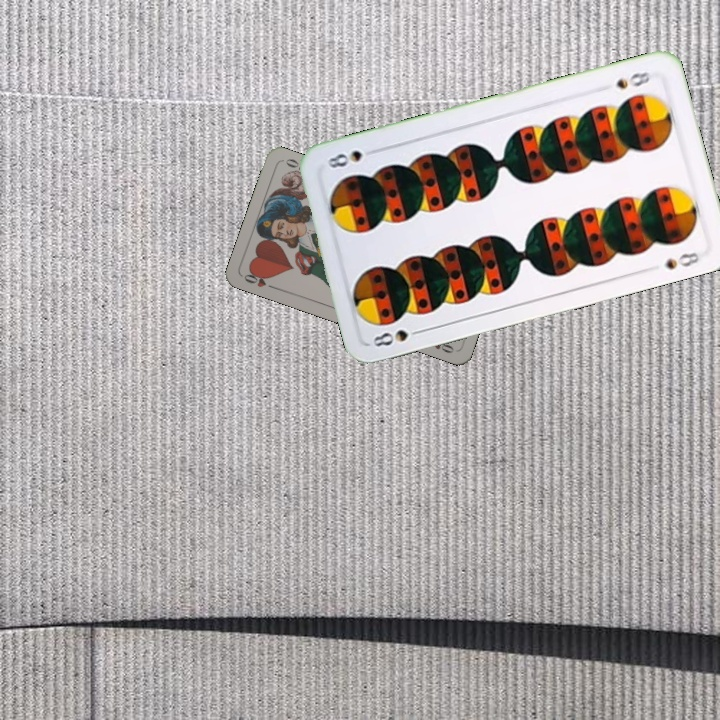HO: (240, 267, 278, 292)
S8: (369, 324, 427, 350), (611, 67, 653, 92)
